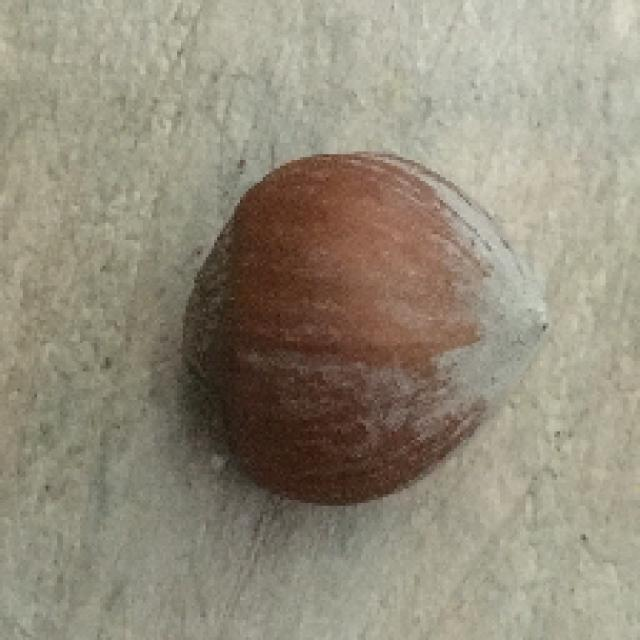QualityHazelnut: (178, 146, 557, 506)
